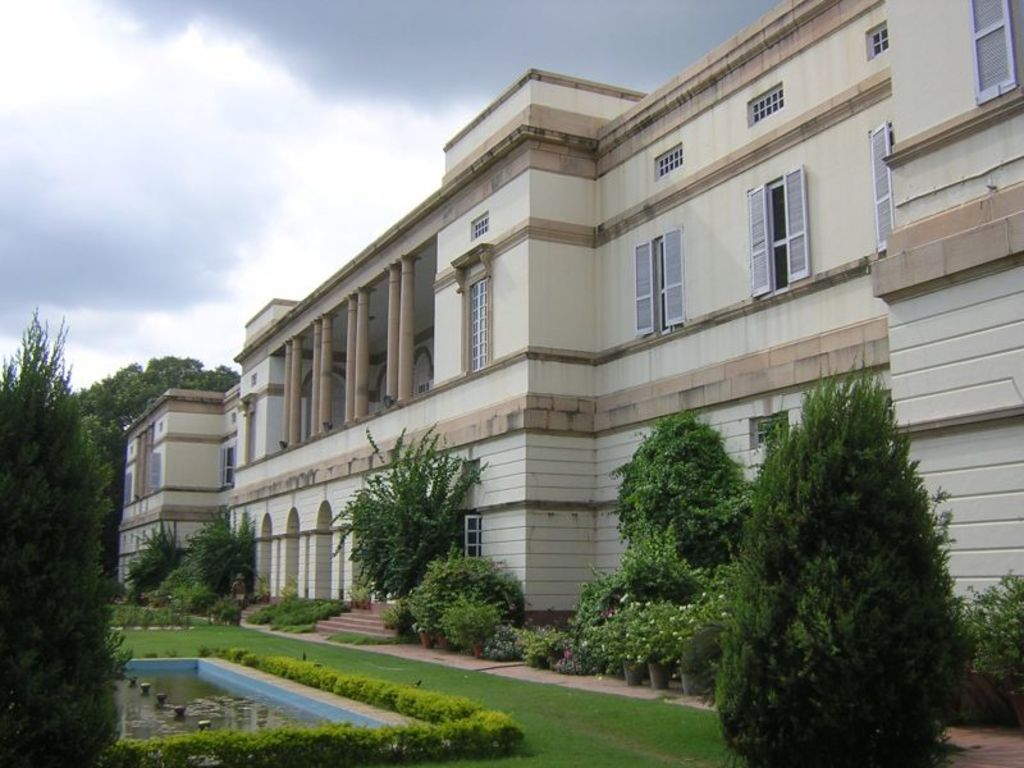Tree: (0, 306, 978, 767)
